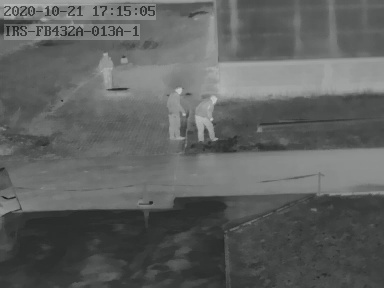person: (194, 92, 218, 145), (166, 84, 186, 139), (97, 52, 116, 89)
